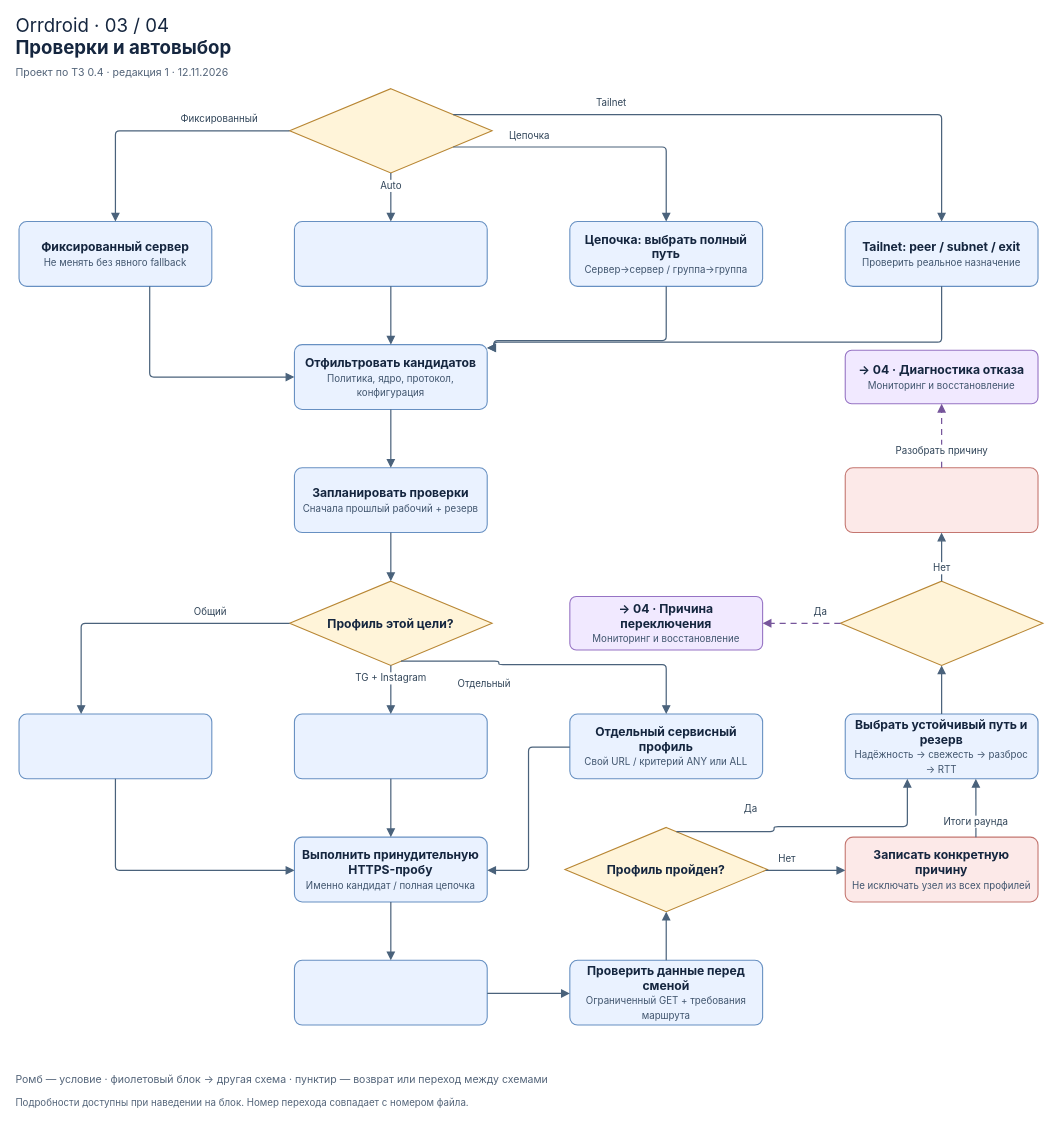
The diagram is 1061 pixels wide and 1128 high, and some of its shapes have lost their labels. Here are the shapes that lost their labels. From the top down, the centre of each, then its label:
At (x=390, y=130): "Тип цели маршрута?".
At (x=390, y=253): "Auto: все разрешённые подписки Фильтры группы, страны, теги, режим".
At (x=941, y=500): "Нет подходящего пути Диагностика; backoff; явный статус".
At (x=941, y=623): "Есть допущенный кандидат?".
At (x=115, y=746): "Общий доступ Cloudflare / Google / Mozilla / Apple".
At (x=390, y=746): "Telegram + Instagram instagram.com/favicon.ico или свой URL".
At (x=390, y=992): "Проверить ответ и передачу Статус + тело; cold/warm раздельно".
